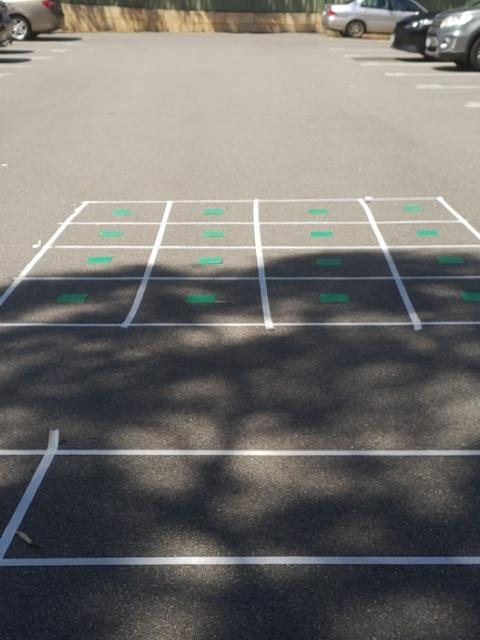weed: (185, 292, 216, 305), (55, 292, 88, 304), (319, 293, 350, 304), (460, 289, 480, 304), (86, 255, 112, 265), (315, 257, 341, 266), (197, 256, 222, 265), (437, 256, 465, 264), (201, 230, 224, 238), (416, 229, 438, 237), (401, 205, 422, 213), (99, 230, 122, 237), (309, 231, 332, 238), (202, 208, 223, 215), (307, 209, 329, 215), (111, 209, 132, 215)
